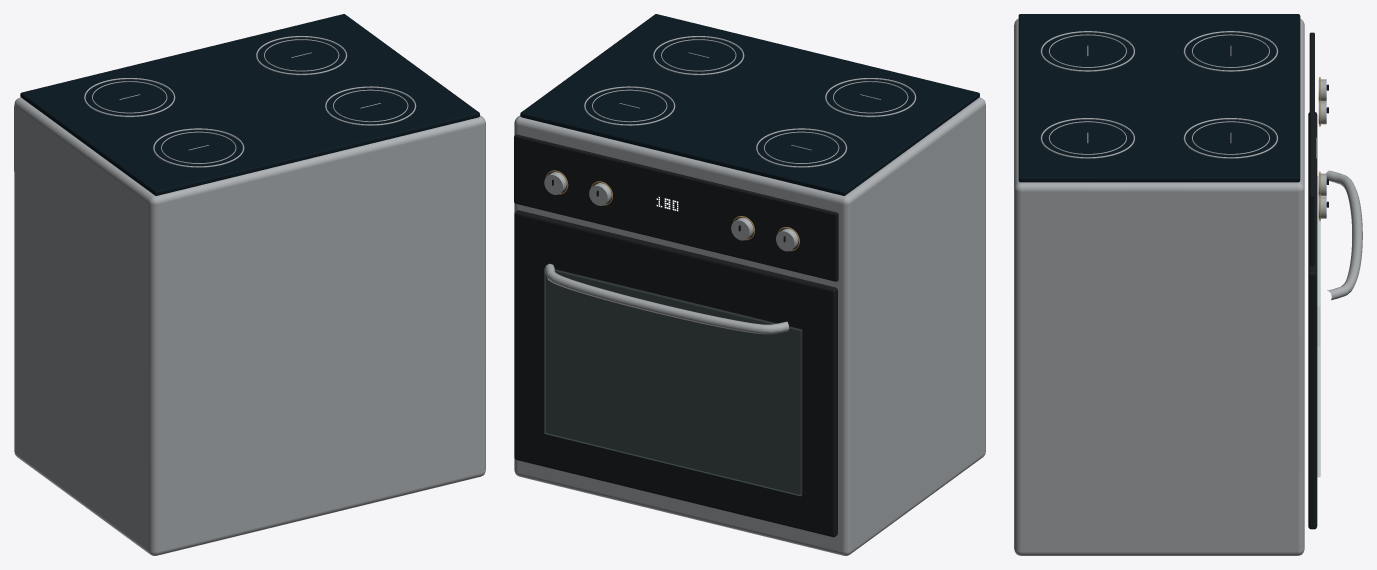
Rendered from luxury-induction-range.glb.
The picture shows the model from 3 angles, left to right: view 1: azimuth 30°, elevation 25°; view 2: azimuth 150°, elevation 25°; view 3: azimuth 270°, elevation 25°; orthographic projection. The views are drawn at different scales.
Parts seen in each view (by area): view 1: steel_0; view 2: steel_0, glass_27; view 3: steel_0, glass_27.
Boxes of the visible parts, x1=… form: steel_0: x1=14, y1=14, x2=485, y2=555; steel_0: x1=514, y1=14, x2=985, y2=555; glass_27: x1=544, y1=268, x2=801, y2=496; steel_0: x1=1014, y1=14, x2=1362, y2=555; glass_27: x1=1317, y1=176, x2=1320, y2=477.
Bounding box in the file's own units: 0.9 × 0.9358 × 0.7801.
Materials: 3 (3 with a texture image).
